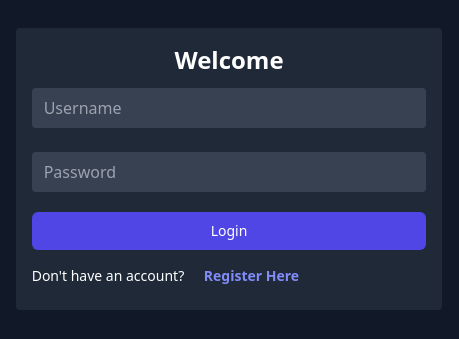
Login › displays error message for server error
This screenshot has width=459, height=339.
Type "Ayushi" into the field with placeholder "Username" at {"x": 229, "y": 108}, box [32, 88, 426, 128]
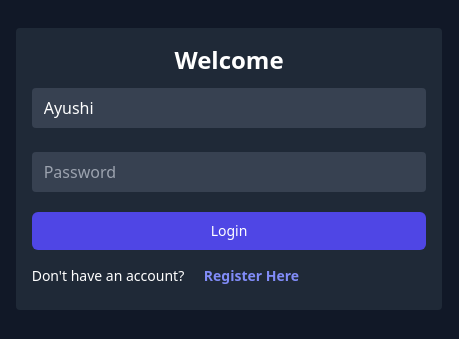
Type "@yushi2002D" into the password field with placeholder "Password" at {"x": 229, "y": 172}, box [32, 152, 426, 192]
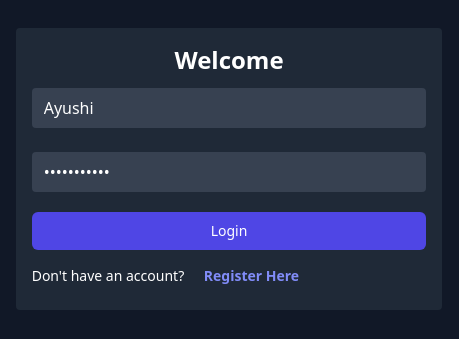
Click the button "Login" at {"x": 229, "y": 231}, box [32, 212, 426, 250]
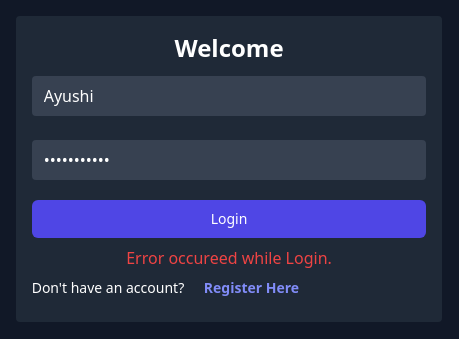
Result: the text "Error occureed while Login." is shown at [126, 247, 332, 269]
